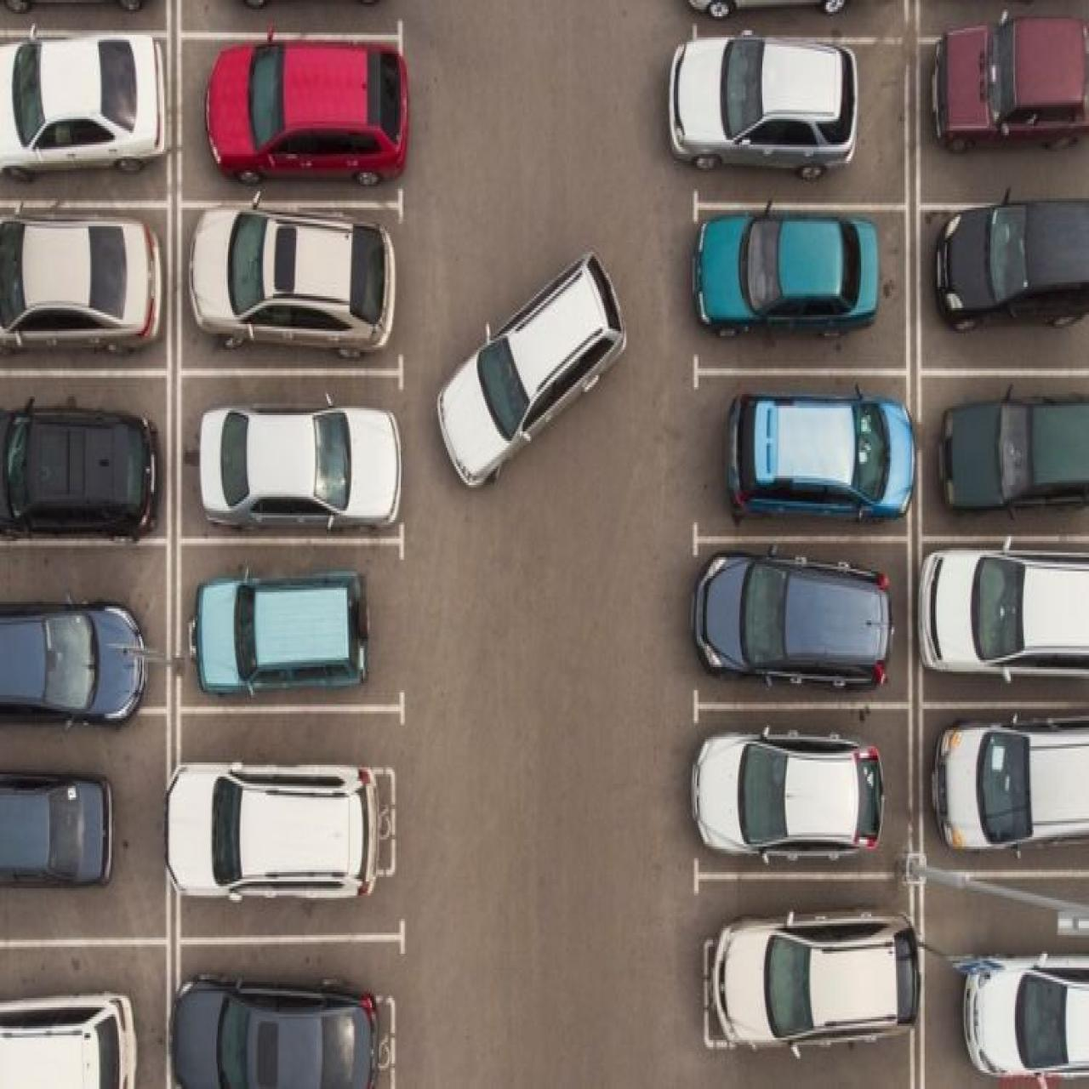cars: (174, 723, 397, 923), (699, 880, 914, 1083), (681, 38, 912, 207), (175, 209, 404, 374), (175, 36, 410, 188), (686, 211, 904, 372), (0, 715, 161, 932), (923, 879, 1089, 1089), (685, 374, 909, 526), (691, 542, 916, 691), (693, 715, 906, 869), (182, 382, 404, 527), (174, 954, 403, 1089), (913, 376, 1089, 549), (183, 549, 392, 687), (913, 207, 1084, 372), (919, 702, 1089, 865), (0, 210, 166, 364), (0, 44, 161, 198), (921, 549, 1089, 694), (0, 550, 157, 702), (914, 47, 1084, 187), (0, 382, 164, 527), (0, 963, 157, 1089)
